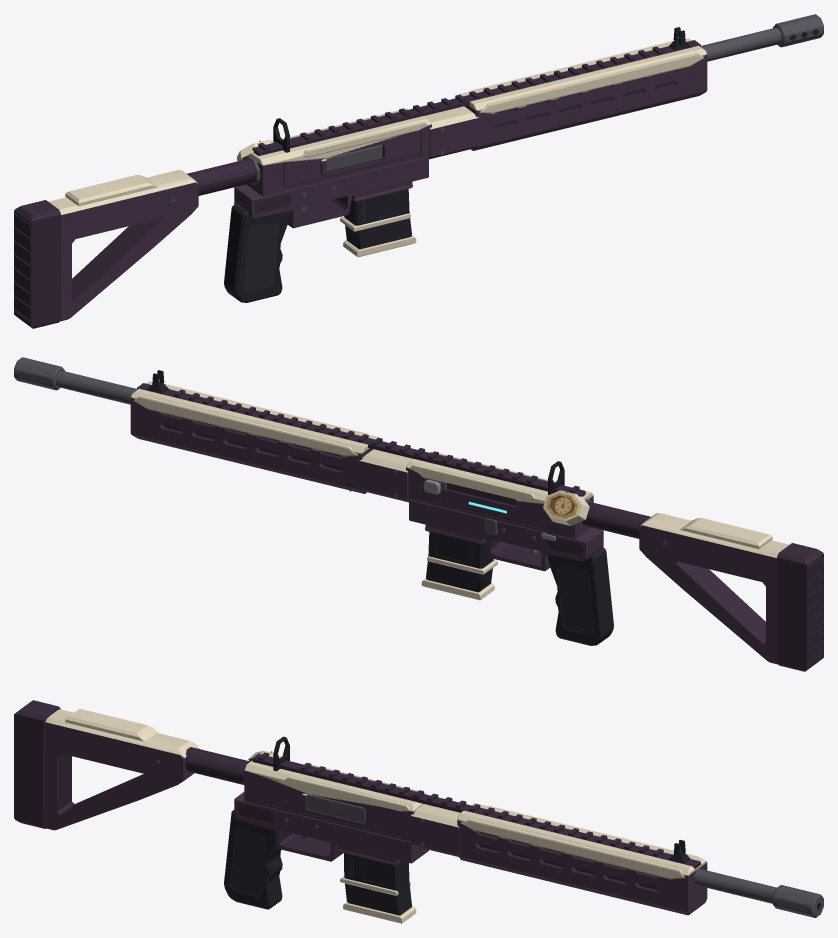
File: Guardian_Sundial_v01.fbx
3 views of the same model, one above another, from view 1: azimuth 30°, elevation 25°; view 2: azimuth 150°, elevation 25°; view 3: azimuth 330°, elevation 25° (orthographic).
Visible parts, largest first — view 1: Guardian_Stock, Guardian_Receiver, Guardian_Handguard, Guardian_Grip, Guardian_Mag, Sundial_ForeSpine_R, Guardian_Barrel, Sundial_ReceiverSpine_R, Guardian_Bolt, Guardian_Sights; view 2: Guardian_Stock, Guardian_Receiver, Guardian_Handguard, Guardian_Grip, Guardian_Mag, Sundial_ForeSpine_L, Guardian_Barrel, Sundial_ReceiverSpine_L, Sundial_PorcelainShoulder, Guardian_Sights; view 3: Guardian_Receiver, Guardian_Stock, Guardian_Handguard, Guardian_Grip, Guardian_Mag, Sundial_ForeSpine_R, Guardian_Barrel, Sundial_ReceiverSpine_R, Guardian_Bolt, Guardian_Sights.
Boxes of the visible parts, bbox=[...] form: Guardian_Stock: bbox=[14, 156, 260, 328]; Guardian_Receiver: bbox=[234, 40, 700, 228]; Guardian_Handguard: bbox=[459, 38, 707, 150]; Guardian_Grip: bbox=[224, 203, 290, 302]; Guardian_Mag: bbox=[340, 189, 416, 257]; Sundial_ForeSpine_R: bbox=[479, 52, 703, 113]; Guardian_Barrel: bbox=[701, 14, 823, 61]; Sundial_ReceiverSpine_R: bbox=[302, 121, 428, 157]; Guardian_Bolt: bbox=[326, 145, 382, 171]; Guardian_Sights: bbox=[273, 27, 690, 152]; Guardian_Stock: bbox=[578, 499, 823, 671]; Guardian_Receiver: bbox=[137, 383, 603, 571]; Guardian_Handguard: bbox=[130, 381, 378, 493]; Guardian_Grip: bbox=[547, 546, 613, 645]; Guardian_Mag: bbox=[421, 532, 497, 600]; Sundial_ForeSpine_L: bbox=[134, 395, 358, 456]; Guardian_Barrel: bbox=[14, 357, 136, 404]; Sundial_ReceiverSpine_L: bbox=[409, 464, 535, 500]; Sundial_PorcelainShoulder: bbox=[543, 490, 589, 525]; Guardian_Sights: bbox=[147, 370, 564, 494]; Guardian_Receiver: bbox=[234, 752, 700, 869]; Guardian_Stock: bbox=[14, 700, 250, 830]; Guardian_Handguard: bbox=[457, 803, 707, 915]; Guardian_Grip: bbox=[224, 810, 282, 909]; Guardian_Mag: bbox=[340, 853, 416, 923]; Sundial_ForeSpine_R: bbox=[460, 819, 684, 879]; Guardian_Barrel: bbox=[694, 868, 823, 917]; Sundial_ReceiverSpine_R: bbox=[284, 776, 409, 811]; Guardian_Bolt: bbox=[308, 794, 365, 821]; Guardian_Sights: bbox=[273, 736, 690, 863].
Size of the model in its own units: 424 by 85.91 by 23.4.
16 materials, 13 textured.
